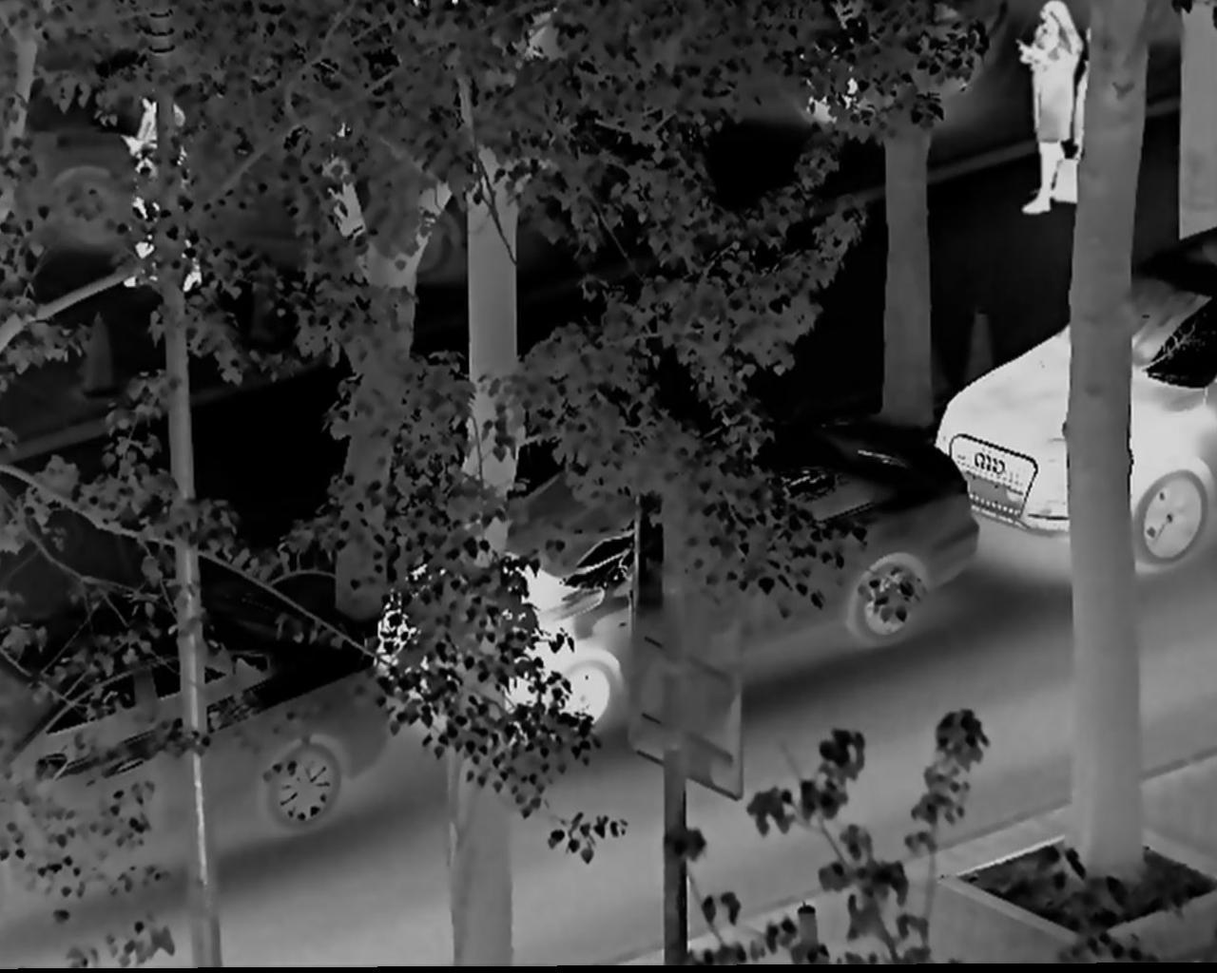person: (122, 83, 203, 294), (1007, 5, 1082, 218)
